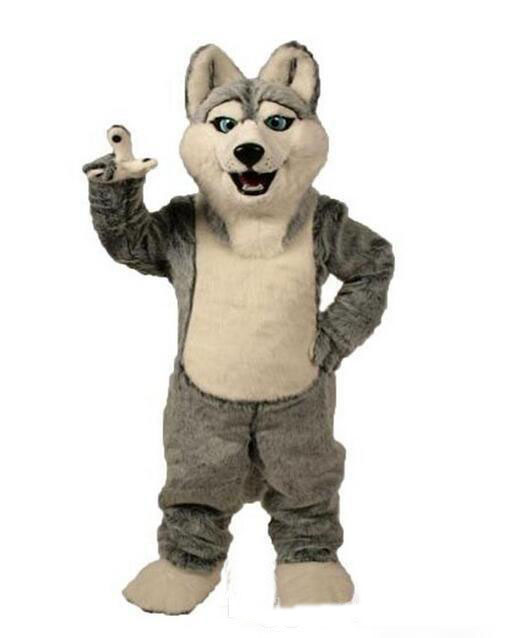Lobo: (59, 17, 424, 638)
